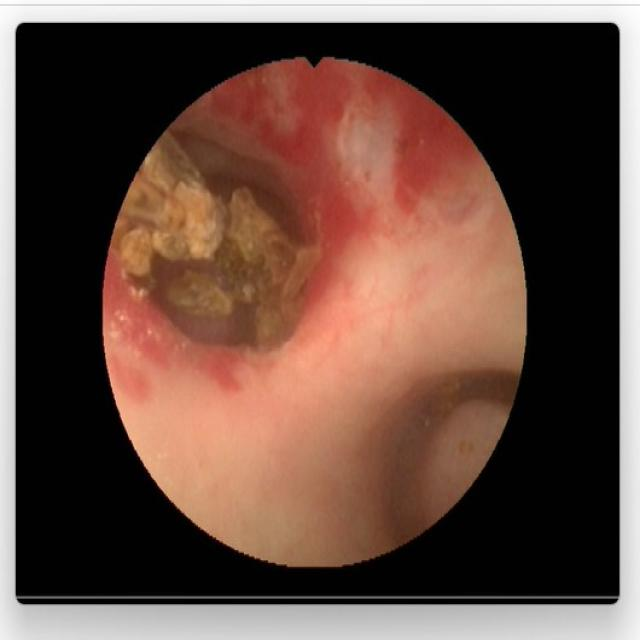stone: (117, 137, 316, 345), (165, 273, 231, 314)
